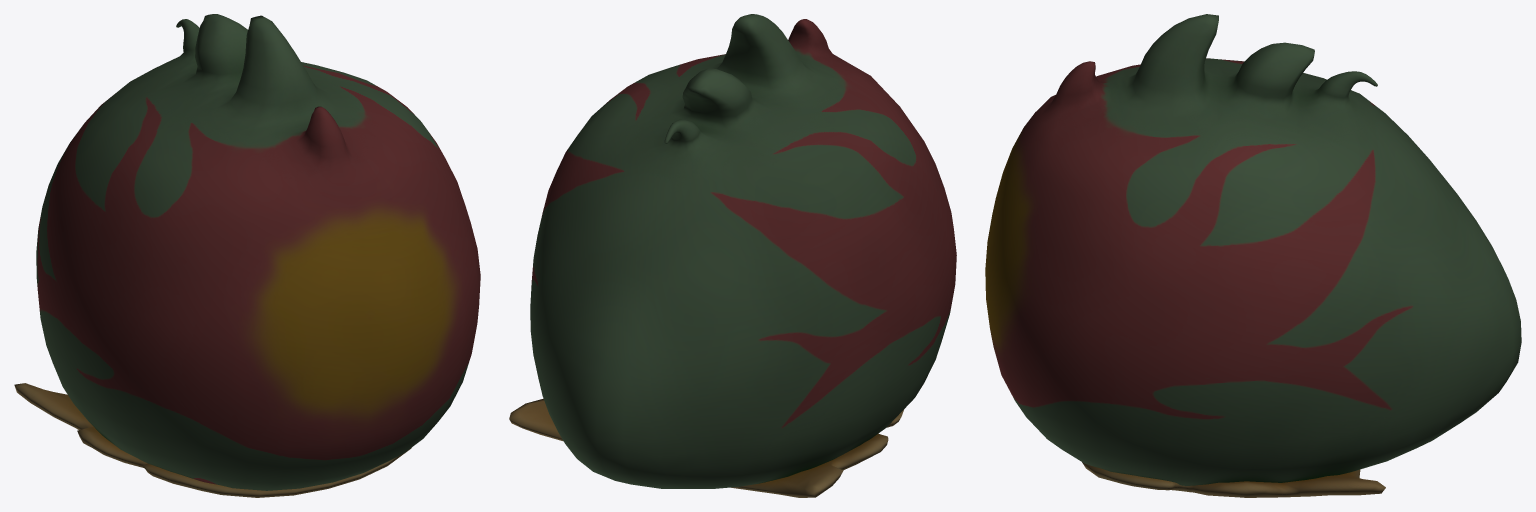
File: meanderTail00.fbx
3 renders of one model, left to right at view 1: azimuth 30°, elevation 25°; view 2: azimuth 150°, elevation 25°; view 3: azimuth 270°, elevation 25°, orthographic. The views are drawn at different scales.
Parts seen in each view (by area): view 1: tail, tail_sternite; view 2: tail, tail_sternite; view 3: tail, tail_sternite.
Boxes of the visible parts, box(x1,y1,x2,y2) form: tail: box(36, 14, 480, 490); tail_sternite: box(14, 383, 411, 497); tail: box(530, 14, 956, 488); tail_sternite: box(509, 398, 903, 497); tail: box(985, 14, 1521, 485); tail_sternite: box(1082, 462, 1385, 497).
Bounding box in the file's own units: 68.42 × 77.16 × 86.62.
2 materials, 2 textured.
